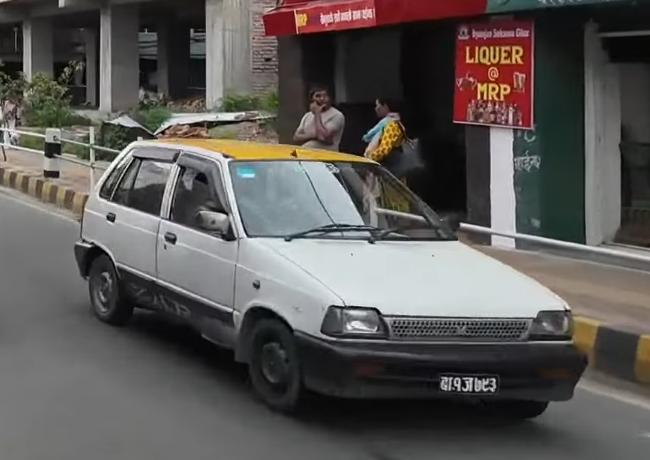taxi: (75, 132, 591, 434)
